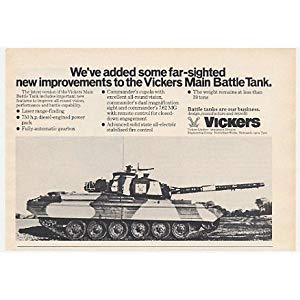Battle Tank: (25, 167, 265, 241)
